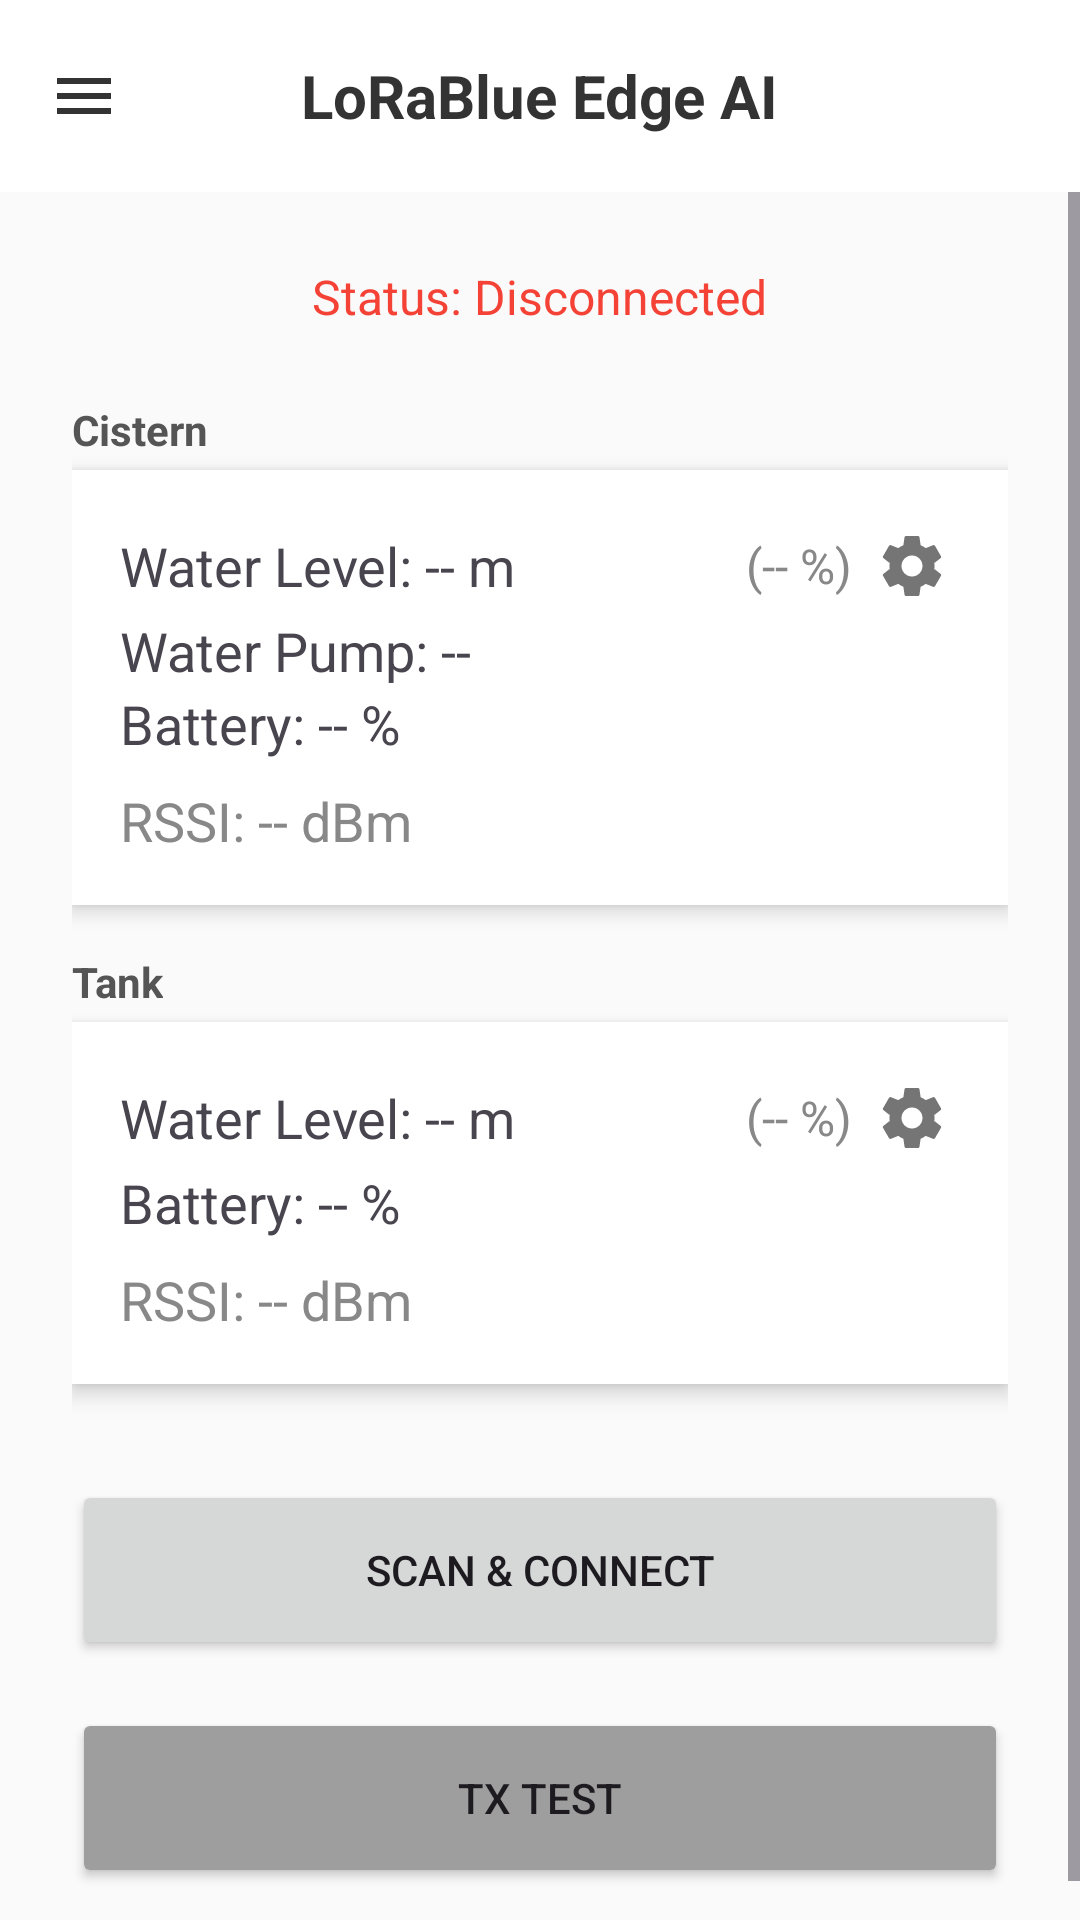

Where to tap for icons on this 1080 × 1920 app screen, as (x=x, y=y):
Configure Cistern depth: (x=912, y=566)
Configure Tank depth: (x=912, y=1118)
